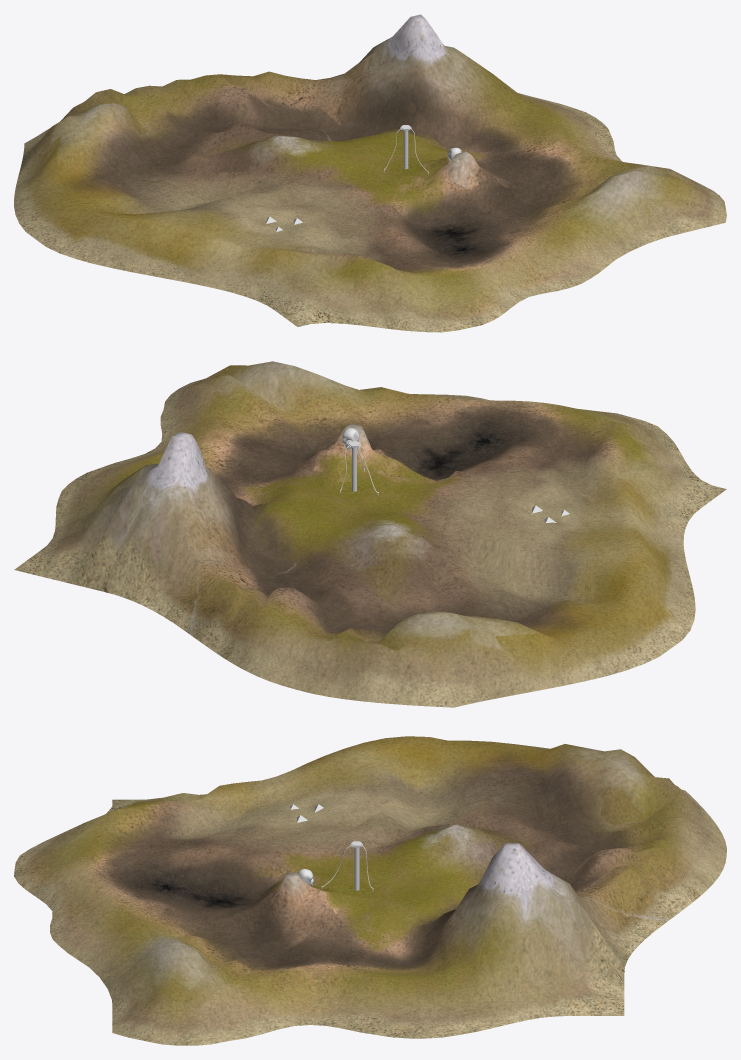
Rendered from OverworldMainMesh.fbx.
3 views of the same model, one above another, from view 1: azimuth 30°, elevation 25°; view 2: azimuth 150°, elevation 25°; view 3: azimuth 270°, elevation 25° (orthographic). The views are drawn at different scales.
Visible parts, largest first — view 1: landscape; view 2: landscape; view 3: landscape.
Boxes of the visible parts, x1=… form: landscape: x1=14, y1=14, x2=726, y2=332; landscape: x1=14, y1=361, x2=726, y2=707; landscape: x1=14, y1=736, x2=726, y2=1045.
Size of the model in its own units: 370 by 66.48 by 367.
